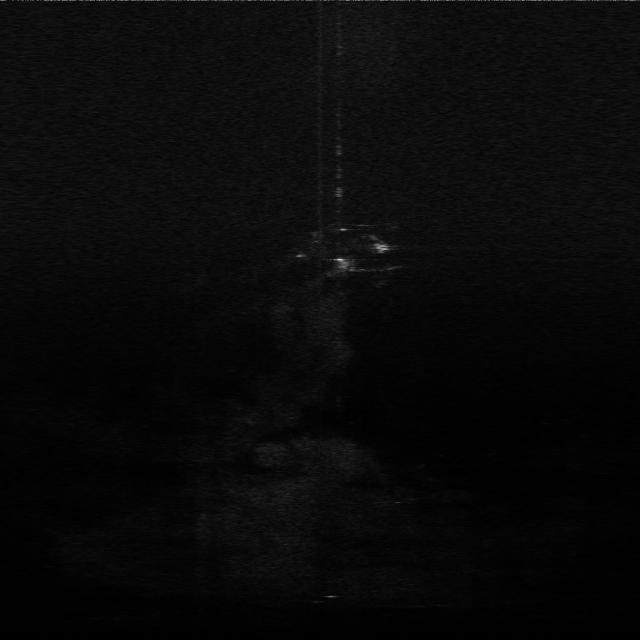rov: (368, 238, 393, 256)
